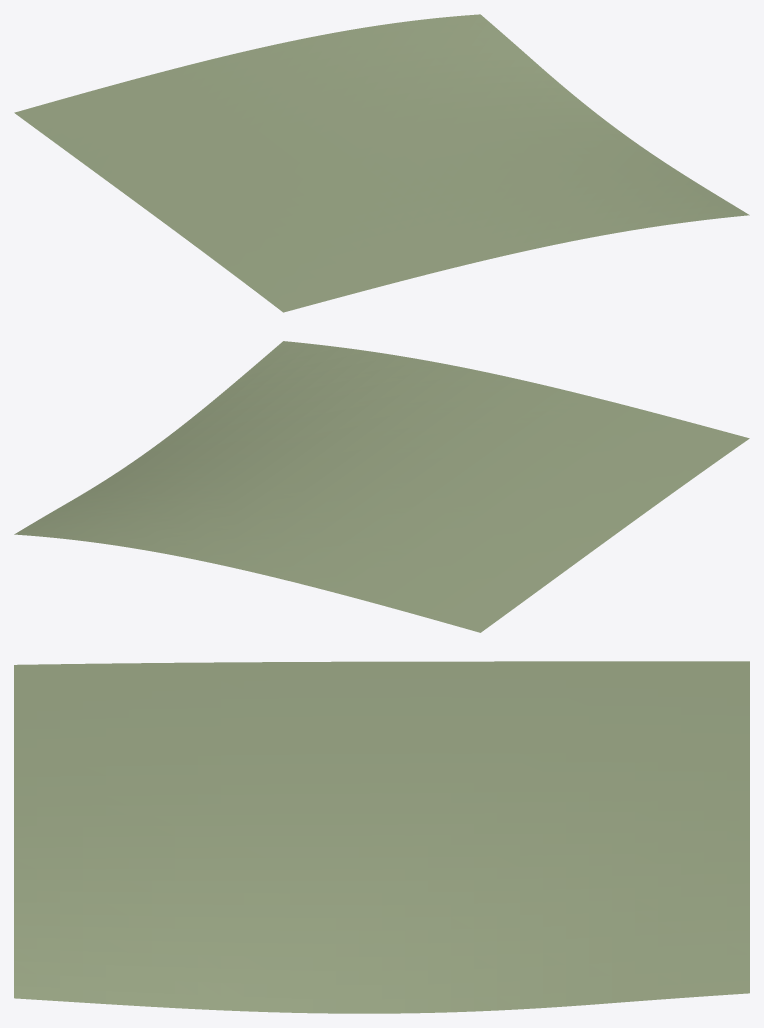
File: expanse-3-30.glb
3 views of the same model, one above another, from view 1: azimuth 30°, elevation 25°; view 2: azimuth 150°, elevation 25°; view 3: azimuth 270°, elevation 25° (orthographic). The views are drawn at different scales.
Visible parts, largest first — view 1: expanse-3-30; view 2: expanse-3-30; view 3: expanse-3-30.
Boxes of the visible parts, x1=… form: expanse-3-30: x1=14, y1=14, x2=749, y2=312; expanse-3-30: x1=14, y1=341, x2=749, y2=632; expanse-3-30: x1=14, y1=661, x2=749, y2=1013.
Bounding box in the file's own units: 256 × 18.63 × 256.
